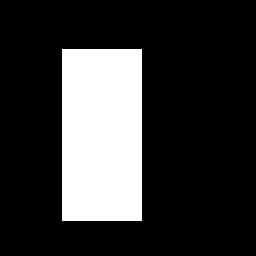person: (62, 49, 141, 220)
